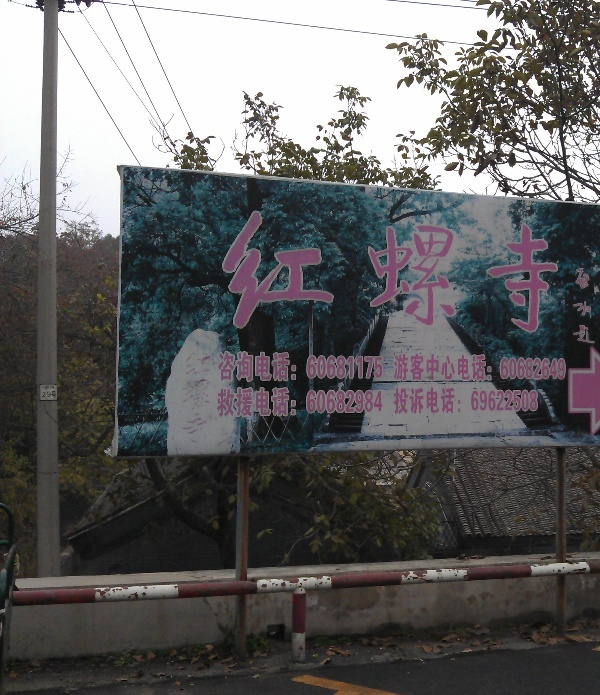text: (241, 206, 256, 333), (257, 206, 272, 333), (273, 206, 288, 333), (289, 206, 304, 333), (305, 206, 320, 333), (321, 206, 336, 333), (337, 206, 352, 333), (353, 206, 368, 333), (369, 206, 384, 333), (385, 206, 400, 333), (401, 206, 416, 333), (417, 206, 432, 333), (433, 206, 448, 333), (449, 206, 464, 333), (465, 206, 480, 333), (481, 206, 496, 333), (497, 206, 512, 333), (513, 206, 528, 333), (529, 206, 544, 333), (545, 206, 559, 333), (228, 206, 240, 333), (193, 353, 208, 445), (577, 267, 592, 346), (184, 353, 192, 445), (209, 353, 215, 445), (225, 351, 240, 384), (241, 351, 256, 384), (257, 351, 272, 384), (273, 351, 288, 384), (289, 351, 304, 384), (305, 351, 320, 384), (321, 351, 336, 384), (337, 351, 352, 384), (353, 351, 368, 384), (369, 351, 384, 384), (225, 387, 240, 418), (241, 387, 256, 418), (257, 387, 272, 418), (273, 387, 288, 418), (289, 387, 304, 418), (305, 387, 320, 418), (321, 387, 336, 418), (337, 387, 352, 418), (353, 387, 368, 418), (369, 387, 384, 418), (401, 353, 416, 382), (417, 353, 432, 382), (433, 353, 448, 382), (449, 353, 464, 382), (465, 353, 480, 382), (481, 353, 496, 382), (497, 353, 512, 382), (513, 353, 528, 382), (529, 353, 544, 382), (545, 353, 560, 382), (401, 387, 416, 414), (417, 387, 432, 414), (433, 387, 448, 414), (449, 387, 464, 414), (465, 387, 480, 414), (481, 387, 496, 414), (497, 387, 512, 414), (513, 387, 528, 414), (529, 387, 538, 414), (573, 267, 576, 346), (217, 387, 224, 418), (393, 353, 400, 382), (561, 353, 568, 382), (219, 351, 224, 384), (394, 387, 400, 414), (593, 267, 595, 346), (49, 391, 57, 398), (42, 391, 48, 398), (385, 351, 386, 384)
